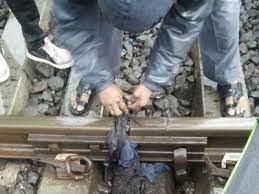mulch: (107, 113, 157, 194)
